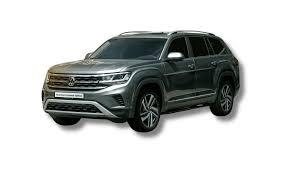volkswagen: (66, 71, 75, 87)
